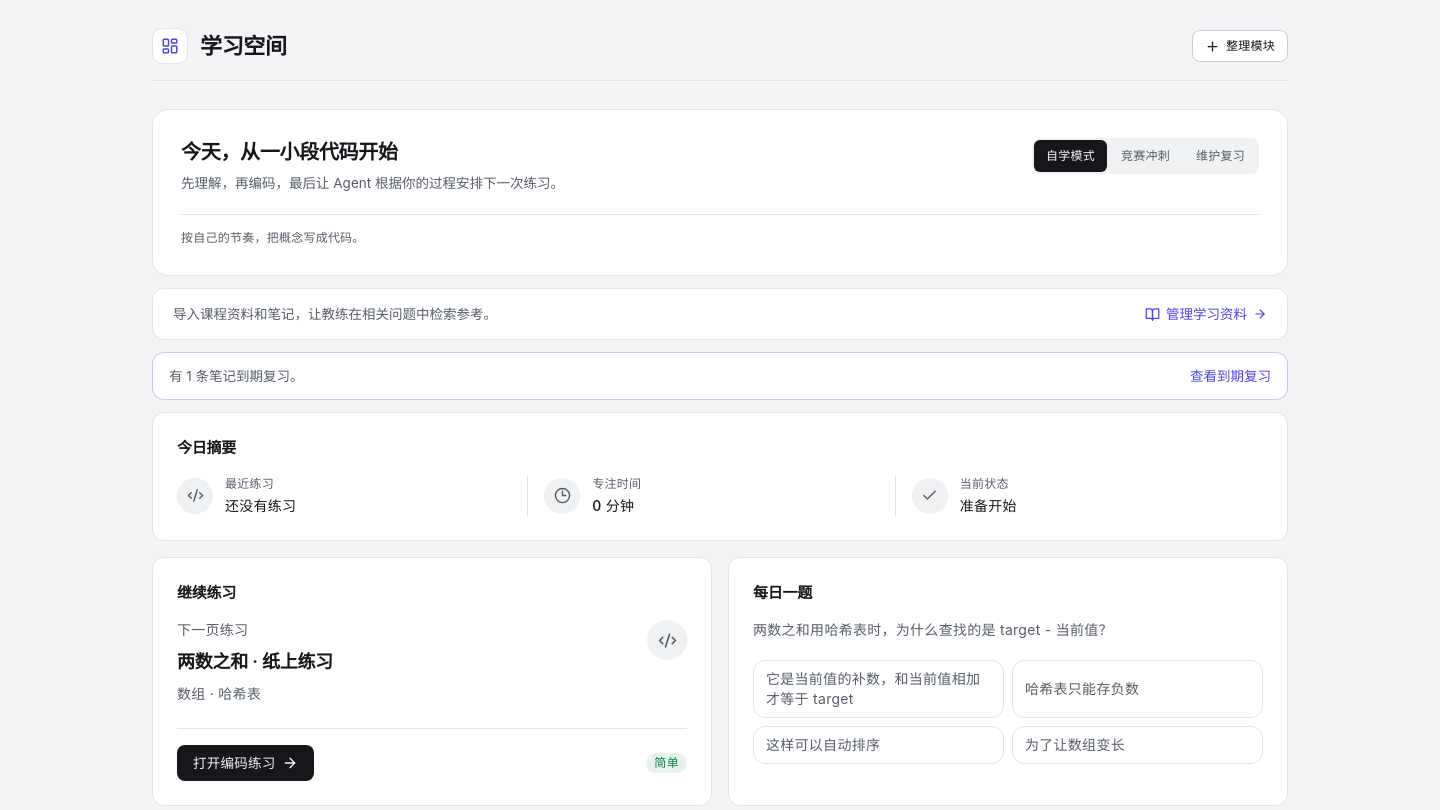
keeps due reviews discoverable when the review block is hidden
The width and height of the screenshot is (1440, 810).
Click the button "查看到期复习".
click(1230, 376)  # box x1=1190 y1=365 x2=1271 y2=387
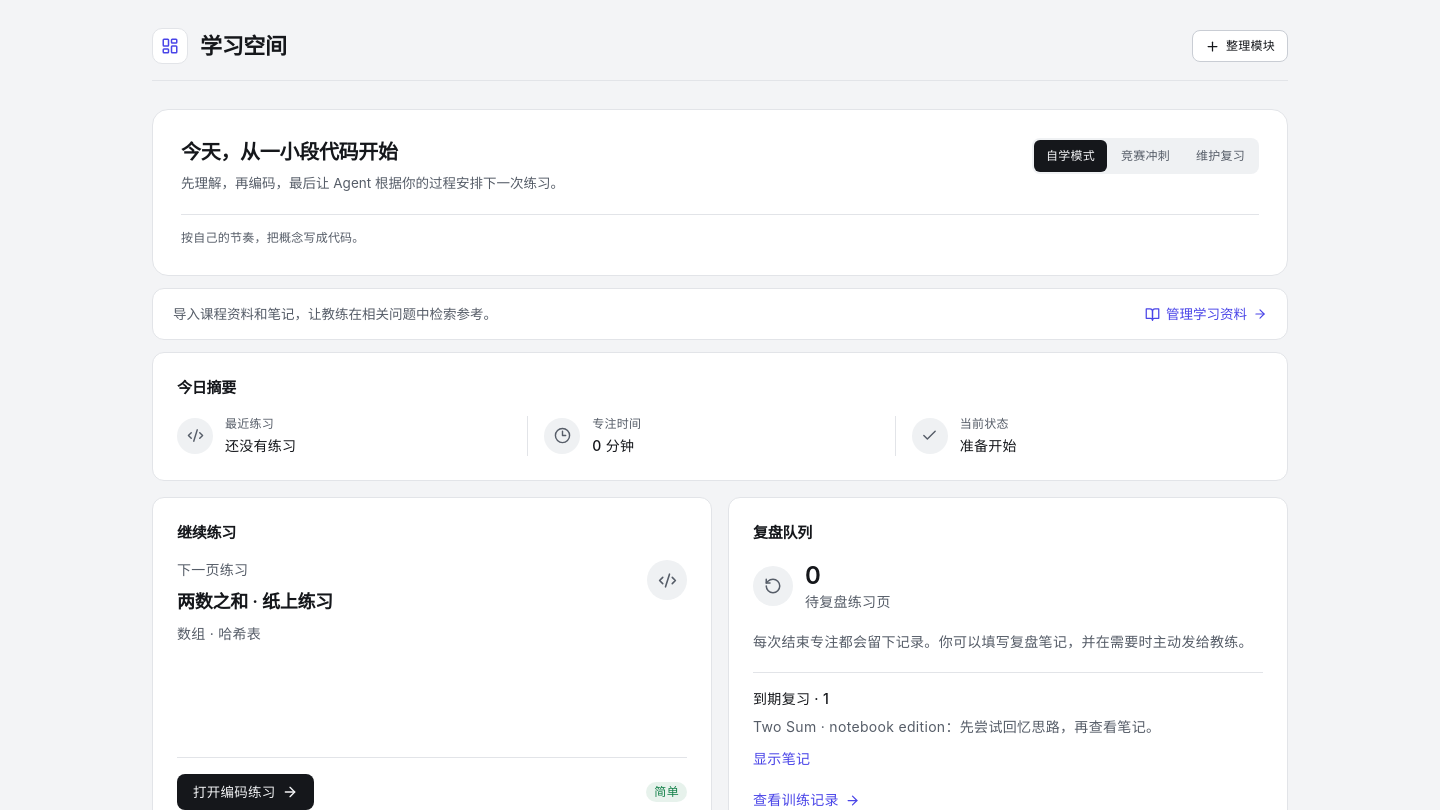
expect the text "到期复习 · 1" is shown: met, box x1=753 y1=690 x2=829 y2=707
